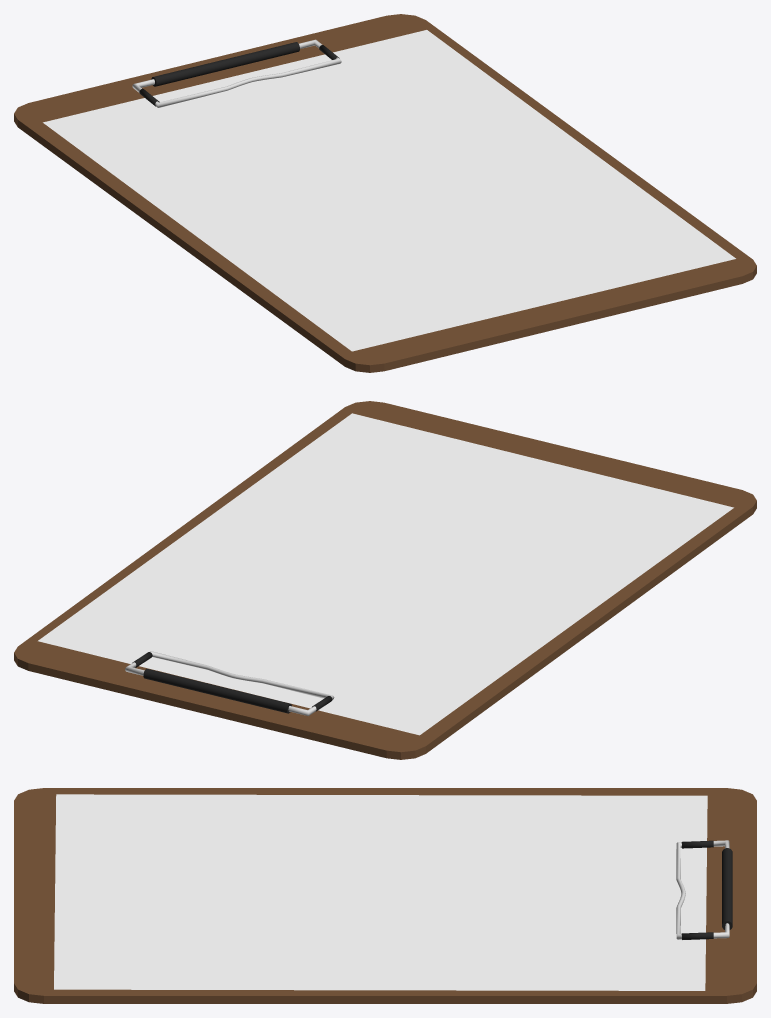
Rendered from Porte Document.glb.
3 views of the same model, one above another, from view 1: azimuth 30°, elevation 25°; view 2: azimuth 150°, elevation 25°; view 3: azimuth 270°, elevation 25° (orthographic). The views are drawn at different scales.
Visible parts, largest first — view 1: Plane.002, Plane.001, Cylinder, Cylinder.001; view 2: Plane.002, Plane.001, Cylinder, Cylinder.001; view 3: Plane.002, Plane.001, Cylinder, Cylinder.001.
Boxes of the visible parts, left/top/right/bottom form: Plane.002: left=43, top=30, right=735, bottom=351; Plane.001: left=14, top=14, right=756, bottom=372; Cylinder: left=151, top=42, right=299, bottom=86; Cylinder.001: left=132, top=39, right=341, bottom=107; Plane.002: left=38, top=413, right=733, bottom=735; Plane.001: left=14, top=401, right=756, bottom=759; Cylinder: left=143, top=668, right=291, bottom=713; Cylinder.001: left=125, top=651, right=334, bottom=715; Plane.002: left=54, top=794, right=707, bottom=990; Plane.001: left=14, top=788, right=756, bottom=1003; Cylinder: left=722, top=848, right=732, bottom=929; Cylinder.001: left=676, top=840, right=729, bottom=939.
Size of the model in its own units: 0.2275 by 0.0089 by 0.3436.
